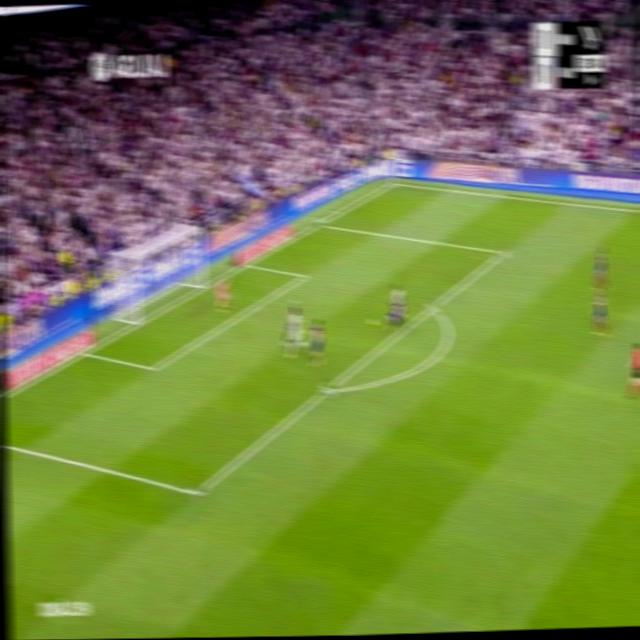bigarea_bottom_inner: (188, 476, 206, 508)
bigarea_top_inner: (496, 243, 509, 261)
bigarea_top_outter: (314, 215, 325, 229)
bottom_arc_area_intersection: (320, 378, 335, 399)
corner: (385, 176, 398, 188)
smallarea_top_inner: (299, 266, 311, 283)
top_arc_area_intersection: (426, 297, 439, 315)
